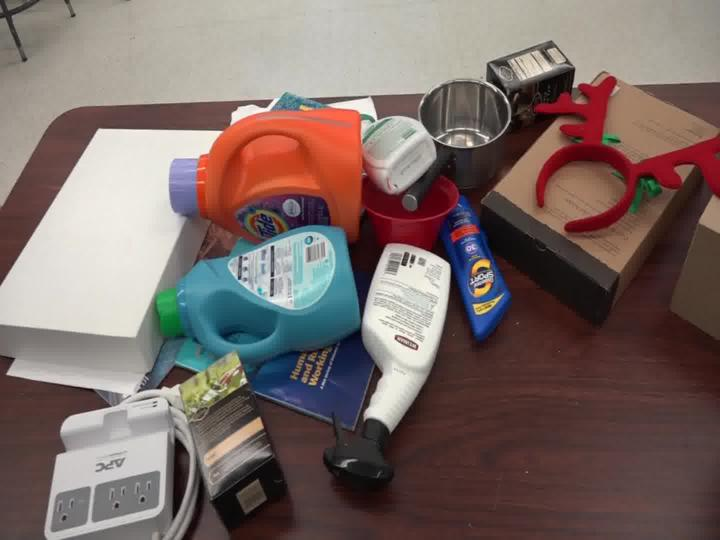tide: (159, 86, 375, 247)
